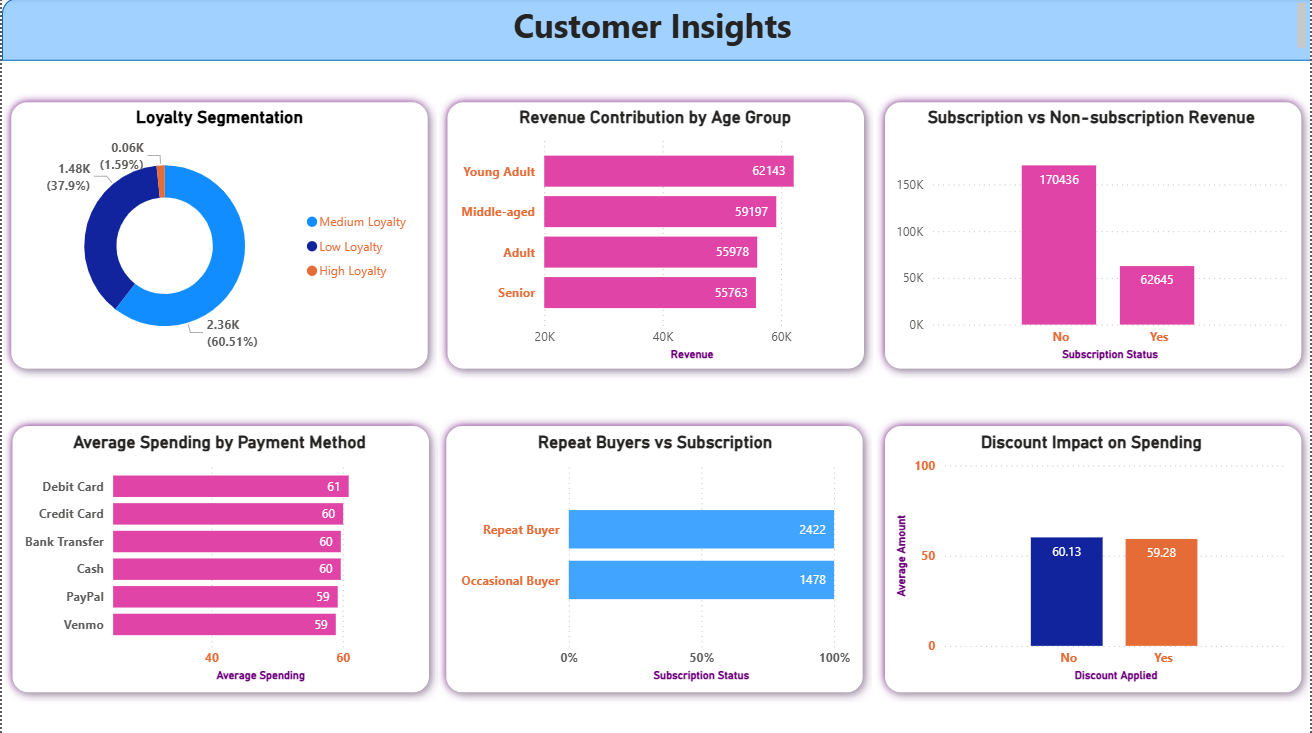

Layout of this report page (visuals, bound fields, positions):
{"tool":"powerbi","page":{"name":"Page 2","canvas":[1280,720],"ordinal":1},"visuals":[{"type":"shape","box":[0,0,1500.3,61.3],"z":0},{"type":"textbox","box":[0,0,1280.3,61.1],"z":1000},{"type":"shape","box":[0,92.9,425.5,278.8],"z":2000},{"type":"shape","box":[1.2,409.6,425.5,278.8],"z":3000},{"type":"shape","box":[854.8,409.6,425.5,278.8],"z":4000},{"type":"shape","box":[854.8,92.9,425.5,278.8],"z":5000},{"type":"donutChart","title":"Loyalty Segmentation","fields":{"Category":["public customer.Loyalty Segment"],"Y":["CountNonNull(public customer.customer_id)"]},"box":[15.9,106.4,393.8,253.1],"z":6000},{"type":"columnChart","title":"Subscription vs Non-subscription Revenue","fields":{"Category":["public customer.subscription_status"],"Y":["public customer.Total Revenue"]},"box":[869.4,106.4,392.5,253.1],"z":7000},{"type":"clusteredBarChart","fields":{"Category":["public customer.payment_method"],"Y":["public customer.Average Purchase Amount"]},"box":[15.9,424.3,393.8,249.5],"z":8000},{"type":"clusteredColumnChart","title":"Discount Impact on Spending","fields":{"Category":["public customer.discount_applied"],"Y":["public customer.Average Purchase Amount"]},"box":[869.4,424.3,392.5,249.5],"z":9000},{"type":"shape","box":[426.8,92.9,425.5,278.8],"z":10000},{"type":"shape","box":[425.5,409.6,425.5,278.8],"z":11000},{"type":"clusteredBarChart","title":"Revenue Contribution by Age Group","fields":{"Category":["public customer.age_group"],"Y":["public customer.Total Revenue"]},"box":[442.7,106.4,392.5,253.1],"z":12000},{"type":"hundredPercentStackedBarChart","title":"Repeat Buyers vs Subscription","fields":{"Y":["CountNonNull(public customer.subscription_status)"],"Category":["public customer.Repeat Buyer Status"]},"box":[442.7,424.3,392.5,249.5],"z":13000}]}

Visuals, with their boxes in screenshot pixels (x1, y1, x2, y2), scaled from the page's 1280x720 canvas onto the 1312x733 screenshot:
shape: left=0, top=0, right=1311, bottom=62
textbox: left=0, top=0, right=1311, bottom=62
shape: left=0, top=95, right=436, bottom=378
shape: left=1, top=417, right=437, bottom=701
shape: left=876, top=417, right=1311, bottom=701
shape: left=876, top=95, right=1311, bottom=378
"Loyalty Segmentation" donutChart: left=16, top=108, right=420, bottom=366
"Subscription vs Non-subscription Revenue" columnChart: left=891, top=108, right=1293, bottom=366
clusteredBarChart - public customer.payment_method x public customer.Average Purchase Amount: left=16, top=432, right=420, bottom=686
"Discount Impact on Spending" clusteredColumnChart: left=891, top=432, right=1293, bottom=686
shape: left=437, top=95, right=874, bottom=378
shape: left=436, top=417, right=872, bottom=701
"Revenue Contribution by Age Group" clusteredBarChart: left=454, top=108, right=856, bottom=366
"Repeat Buyers vs Subscription" hundredPercentStackedBarChart: left=454, top=432, right=856, bottom=686
